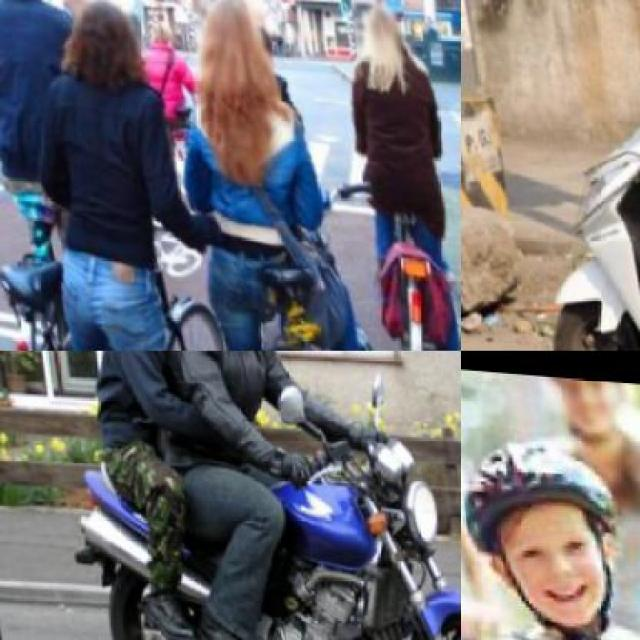With Helmet: (460, 410, 638, 638)
Without Helmet: (188, 0, 277, 94), (64, 0, 143, 95), (346, 0, 404, 58)
